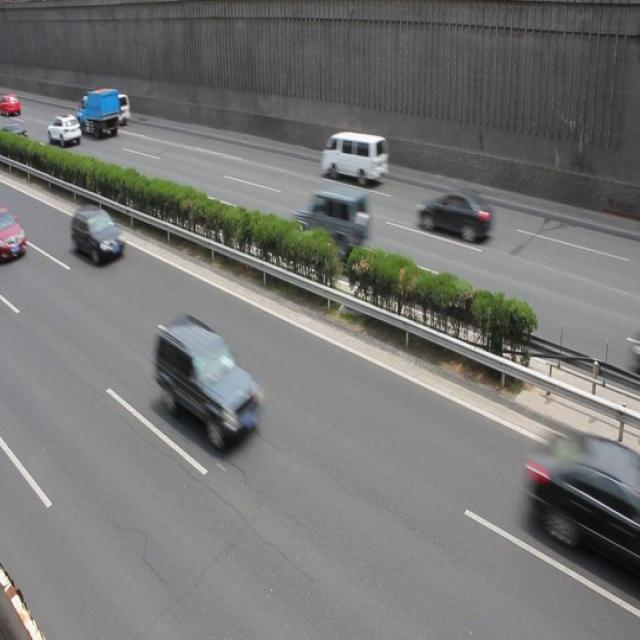bus: (74, 91, 120, 137)
car: (157, 318, 270, 458), (290, 185, 370, 265), (416, 189, 490, 244), (72, 204, 126, 268), (1, 209, 27, 263), (49, 114, 82, 149)
truck: (320, 132, 389, 186), (100, 92, 131, 126)
